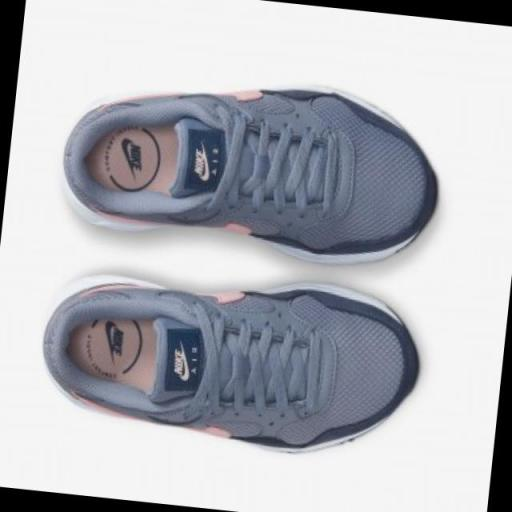Nike: (180, 347, 192, 382), (192, 150, 206, 172)
